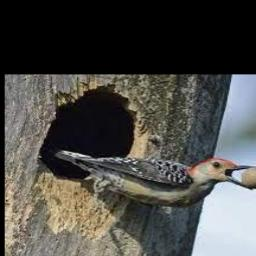Woodpecker: (55, 149, 256, 208)
